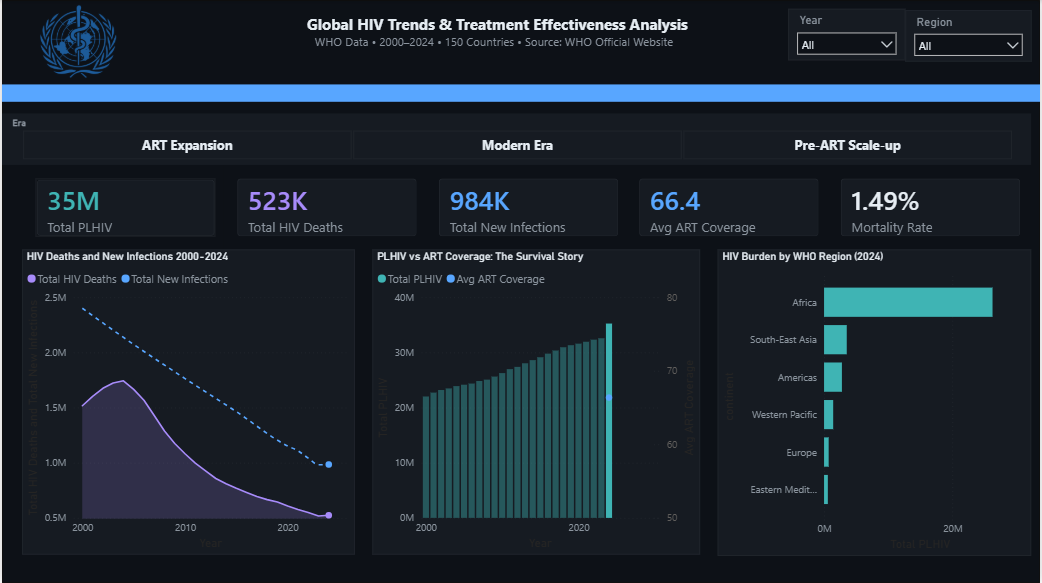

This screenshot's page, from the dashboard's own definition file:
{"tool":"powerbi","page":{"name":"Page 1","canvas":[1280,720],"ordinal":0},"visuals":[{"type":"cardVisual","fields":{"Data":["_Measures.Total PLHIV"]},"box":[24.9,203.5,255,105],"z":0},{"type":"cardVisual","fields":{"Data":["_Measures.Total HIV Deaths"]},"box":[273.1,203.5,255,105],"z":1000},{"type":"cardVisual","fields":{"Data":["_Measures.Total New Infections"]},"box":[521.3,203.5,255,105],"z":2000},{"type":"cardVisual","fields":{"Data":["_Measures.Avg ART Coverage"]},"box":[769.5,203.5,255,105],"z":3000},{"type":"cardVisual","fields":{"Data":["_Measures.Mortality Rate"]},"box":[1017.7,203.5,255,105],"z":4000},{"type":"lineChart","title":"HIV Deaths and New Infections 2000-2024","fields":{"Category":["DimDate.Year"],"Y":["_Measures.Total HIV Deaths","_Measures.Total New Infections"]},"box":[24.9,307.6,410.2,376],"z":5000},{"type":"lineStackedColumnComboChart","title":"PLHIV vs ART Coverage: The Survival Story","fields":{"Category":["DimDate.Year"],"Y":["_Measures.Total PLHIV"],"Y2":["_Measures.Avg ART Coverage"]},"box":[456.8,307.6,404,376],"z":6000},{"type":"clusteredBarChart","title":"HIV Burden by WHO Region (2024)","fields":{"Category":["DimCountry.continent"],"Y":["_Measures.Total PLHIV"]},"box":[882.5,307.6,386.9,377.6],"z":7000},{"type":"textbox","box":[330.9,12.8,565.9,63.9],"z":8000},{"type":"shape","box":[0,104.1,1280.3,21.8],"z":9000},{"type":"image","box":[0,0,188,102.5],"z":10000},{"type":"slicer","fields":{"Values":["DimDate.Year"]},"box":[969.5,10.9,144.5,63.7],"z":11000},{"type":"slicer","fields":{"Values":["DimCountry.continent"]},"box":[1114,12.4,155.4,63.7],"z":12000},{"type":"slicer","fields":{"Values":["DimDate.EraLabel"]},"box":[0,139.8,1269.4,63.7],"z":13000}]}

Visuals, with their boxes in screenshot pixels (x1, y1, x2, y2), scaled from the page's 1280x720 canvas onto the 1042x583 screenshot:
cardVisual - _Measures.Total PLHIV: [20,165,228,250]
cardVisual - _Measures.Total HIV Deaths: [222,165,430,250]
cardVisual - _Measures.Total New Infections: [424,165,632,250]
cardVisual - _Measures.Avg ART Coverage: [626,165,834,250]
cardVisual - _Measures.Mortality Rate: [828,165,1036,250]
"HIV Deaths and New Infections 2000-2024" lineChart: [20,249,354,554]
"PLHIV vs ART Coverage: The Survival Story" lineStackedColumnComboChart: [372,249,701,554]
"HIV Burden by WHO Region (2024)" clusteredBarChart: [718,249,1033,555]
textbox: [269,10,730,62]
shape: [0,84,1041,102]
image: [0,0,153,83]
slicer - DimDate.Year: [789,9,907,60]
slicer - DimCountry.continent: [907,10,1033,62]
slicer - DimDate.EraLabel: [0,113,1033,165]
